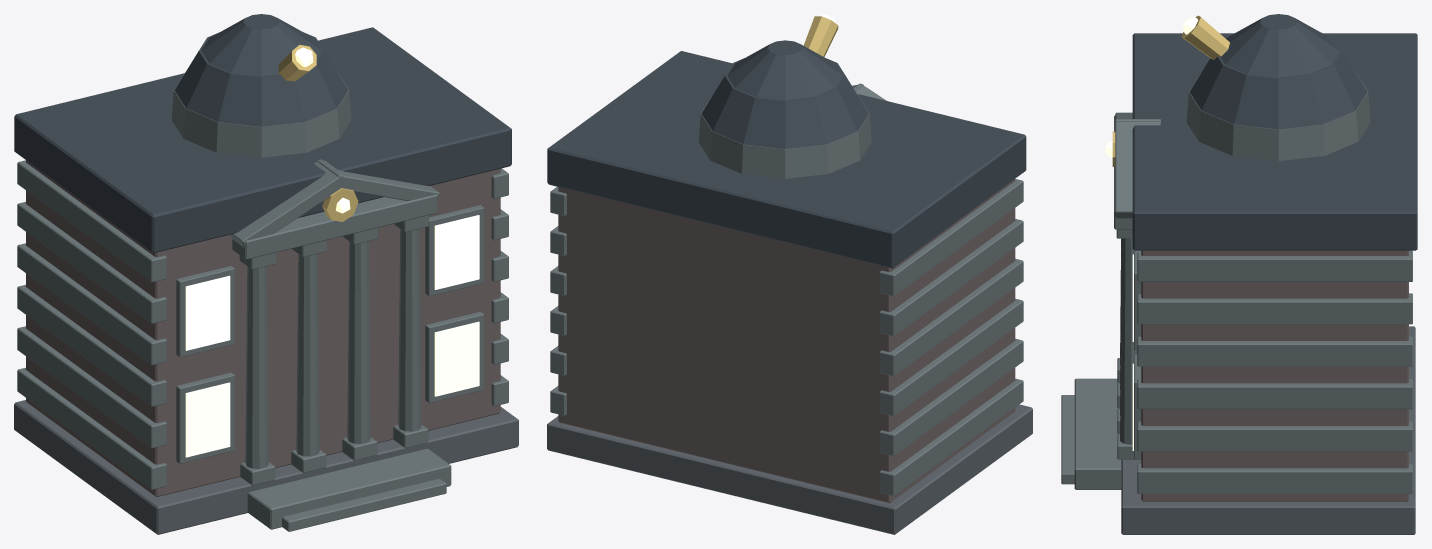
The model's file is outdoor_university.glb.
3 renders of one model, left to right at view 1: azimuth 30°, elevation 25°; view 2: azimuth 150°, elevation 25°; view 3: azimuth 270°, elevation 25°, orthographic. The views are drawn at different scales.
Visible parts, largest first — view 1: Outdoor_University; view 2: Outdoor_University; view 3: Outdoor_University.
Part boxes in pixels (left/top/right/bottom): Outdoor_University: left=14, top=14, right=518, bottom=534; Outdoor_University: left=547, top=14, right=1032, bottom=534; Outdoor_University: left=1061, top=14, right=1417, bottom=534.
Bounding box in the file's own units: 11.52 × 12.71 × 9.59.
